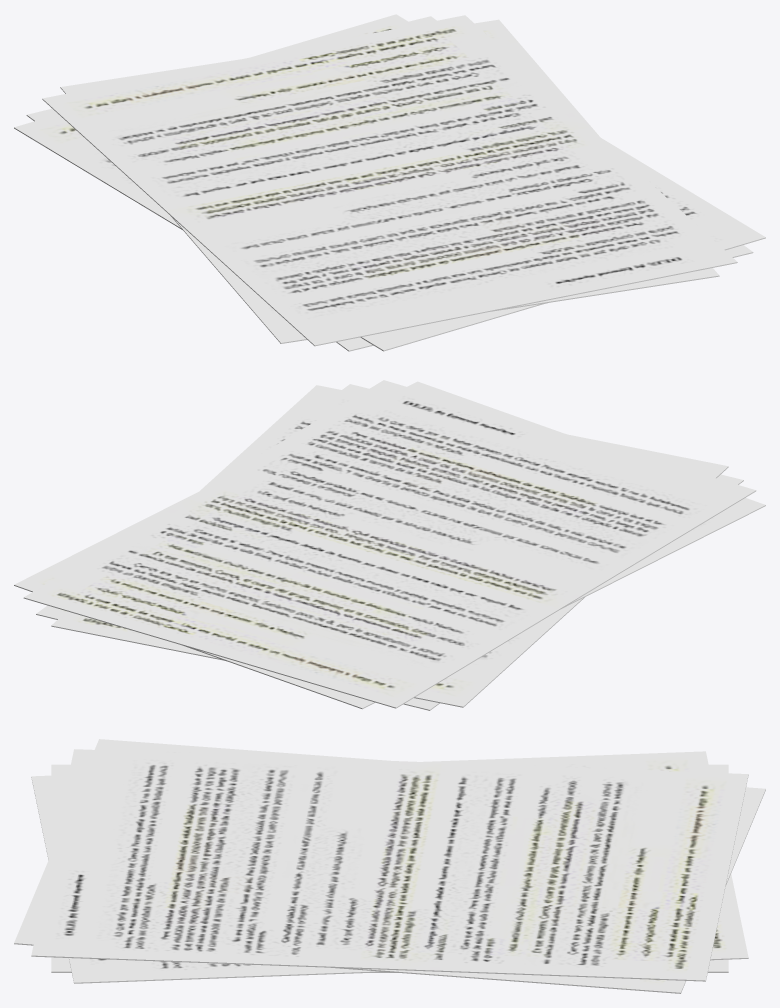
File: paper1.FBX
3 renders of one model, top to bottom at view 1: azimuth 30°, elevation 25°; view 2: azimuth 150°, elevation 25°; view 3: azimuth 270°, elevation 25°, orthographic. The views are drawn at different scales.
Visible parts, largest first — view 1: paper; view 2: paper; view 3: paper.
Part boxes in pixels (x1=…): paper: x1=14, y1=14, x2=765, y2=351; paper: x1=14, y1=380, x2=765, y2=710; paper: x1=14, y1=739, x2=765, y2=993.
Size of the model in its own units: 25.72 by 0.2087 by 32.21.
Materials: 1 (1 with a texture image).
